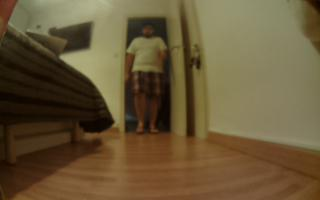person: (125, 24, 170, 138)
